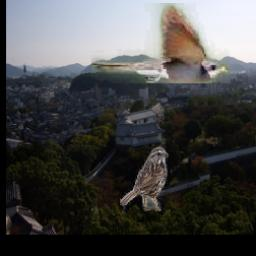Cuckoo: (91, 4, 230, 84)
Sparrow: (120, 146, 169, 212)
